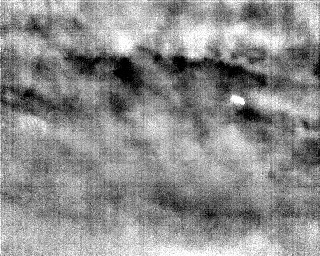BIRD: (227, 90, 249, 111)
